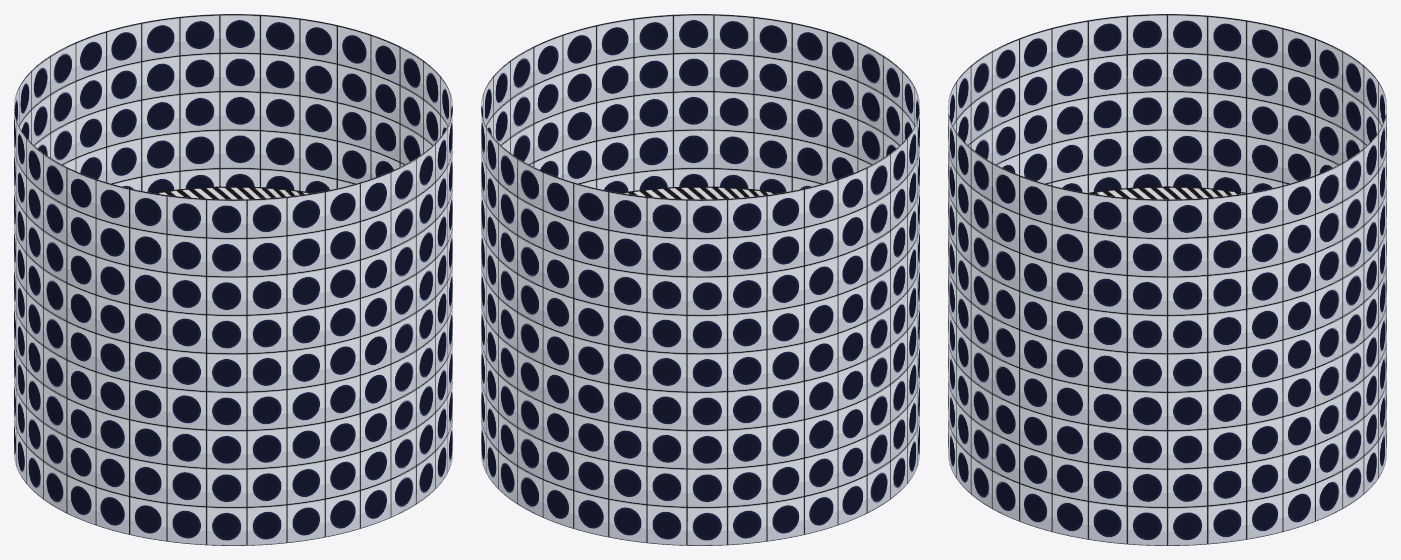
The model's file is scrum_backdrop.glb.
3 views of the same model, side by side, from view 1: azimuth 30°, elevation 25°; view 2: azimuth 150°, elevation 25°; view 3: azimuth 270°, elevation 25° (orthographic).
Parts seen in each view (by area): view 1: scrum_backdrop, scrum_stripes; view 2: scrum_backdrop, scrum_stripes; view 3: scrum_backdrop, scrum_stripes.
Part boxes in pixels (x1,y1,x2,y2): scrum_backdrop: (14, 14, 452, 545); scrum_stripes: (154, 186, 312, 199); scrum_backdrop: (481, 14, 919, 545); scrum_stripes: (621, 186, 779, 199); scrum_backdrop: (948, 14, 1386, 545); scrum_stripes: (1088, 186, 1246, 199).
Size of the model in its own units: 13.2 by 11.5 by 13.2.
Materials: 2 (2 with a texture image).
